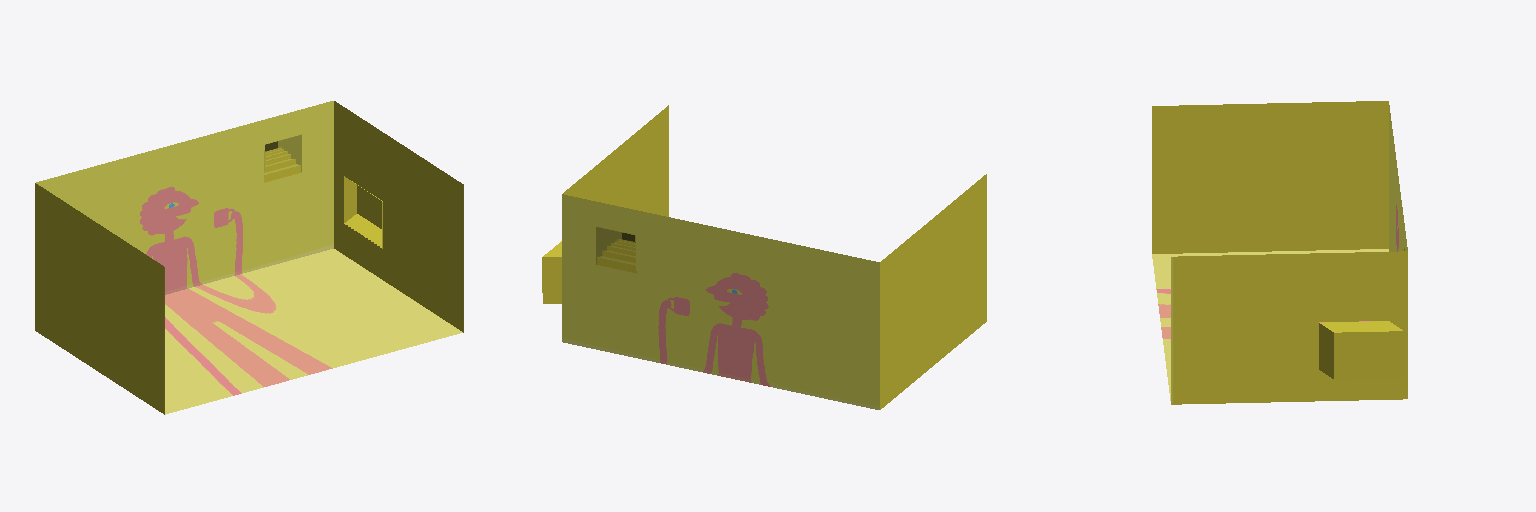
The picture shows the model from 3 angles: view 1: azimuth 30°, elevation 25°; view 2: azimuth 150°, elevation 25°; view 3: azimuth 270°, elevation 25°; orthographic projection.
Visible parts, largest first — view 1: prismo001, pasillo; view 2: prismo001, pasillo; view 3: prismo001, pasillo.
Part boxes in pixels (x1,y1,x2,y2): prismo001: (35, 101, 463, 414); pasillo: (344, 176, 382, 248); prismo001: (562, 105, 986, 409); pasillo: (542, 241, 561, 303); prismo001: (1152, 101, 1407, 404); pasillo: (1319, 321, 1403, 379).
Size of the model in its own units: 25.71 by 10.93 by 17.13.
Materials: 1 (1 with a texture image).